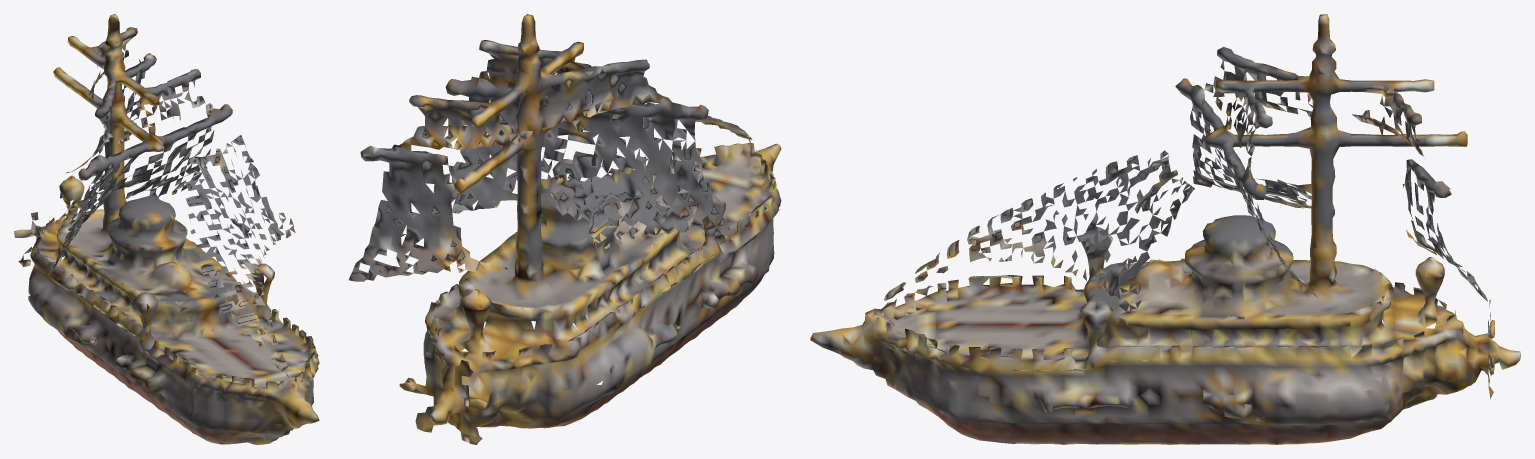
Rendered from mon3d_lo.glb.
3 views of the same model, side by side, from view 1: azimuth 30°, elevation 25°; view 2: azimuth 150°, elevation 25°; view 3: azimuth 270°, elevation 25° (orthographic). The views are drawn at different scales.
Bounding box in the file's own units: 0.8963 × 1.25 × 1.94.
